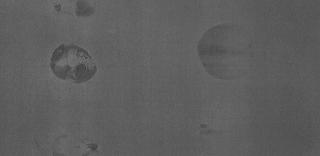oil spot: (196, 20, 258, 81), (50, 42, 99, 88), (48, 134, 102, 156), (72, 1, 98, 19), (196, 124, 218, 134), (54, 2, 61, 14)
